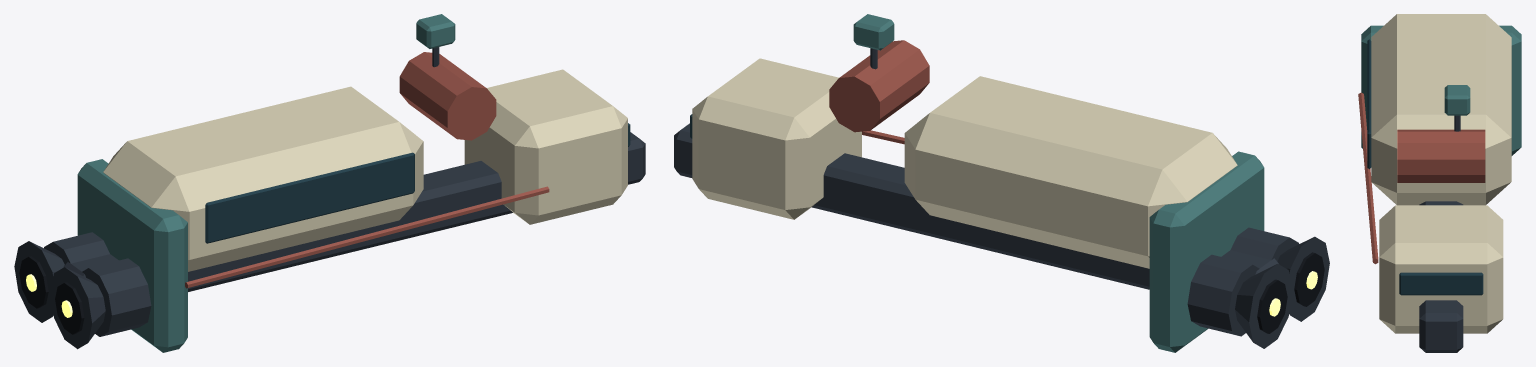
File: private-weather.glb
3 views of the same model, side by side, from view 1: azimuth 30°, elevation 25°; view 2: azimuth 150°, elevation 25°; view 3: azimuth 270°, elevation 25° (orthographic). The views are drawn at different scales.
Visible parts, largest first — view 1: restored salon, forward command, reactor shield, structural spine, panoramic glass, old winch, engine jacket, brightwork, engine bell, engine bell.001, engine jacket.001, sensor head (+2 smaller); view 2: restored salon, forward command, structural spine, reactor shield, old winch, engine jacket.001, engine bell.001, engine bell, engine jacket, sensor head, engine throat.001, engine throat; view 3: restored salon, forward command, old winch, structural spine, reactor shield, bridge glazing, brightwork, sensor head, panoramic glass.
Part boxes in pixels (bbox=[...]): restored salon: bbox=[103, 86, 423, 271]; forward command: bbox=[464, 69, 627, 224]; reactor shield: bbox=[77, 159, 187, 352]; structural spine: bbox=[63, 132, 645, 291]; panoramic glass: bbox=[205, 152, 414, 243]; old winch: bbox=[399, 52, 496, 140]; engine jacket: bbox=[82, 258, 151, 336]; brightwork: bbox=[185, 186, 549, 288]; engine bell: bbox=[50, 267, 105, 349]; engine bell.001: bbox=[14, 241, 64, 322]; engine jacket.001: bbox=[44, 232, 109, 264]; sensor head: bbox=[416, 14, 455, 48]; restored salon: bbox=[904, 76, 1237, 268]; forward command: bbox=[692, 58, 861, 219]; structural spine: bbox=[674, 123, 1278, 289]; reactor shield: bbox=[1149, 151, 1264, 352]; old winch: bbox=[829, 40, 929, 132]; engine jacket.001: bbox=[1187, 254, 1259, 336]; engine bell.001: bbox=[1235, 264, 1289, 348]; engine bell: bbox=[1277, 236, 1329, 321]; engine jacket: bbox=[1230, 227, 1298, 260]; sensor head: bbox=[853, 14, 894, 50]; engine throat.001: bbox=[1257, 279, 1287, 333]; engine throat: bbox=[1294, 252, 1324, 306]; restored salon: bbox=[1371, 14, 1511, 205]; forward command: bbox=[1379, 205, 1503, 333]; old winch: bbox=[1397, 129, 1485, 182]; structural spine: bbox=[1419, 201, 1463, 352]; reactor shield: bbox=[1361, 25, 1521, 155]; bridge glazing: bbox=[1399, 272, 1483, 295]; brightwork: bbox=[1358, 92, 1378, 264]; sensor head: bbox=[1444, 85, 1470, 115]; panoramic glass: bbox=[1367, 39, 1371, 169].
Bounding box in the file's own units: 7.82 × 2.79 × 2.03.
